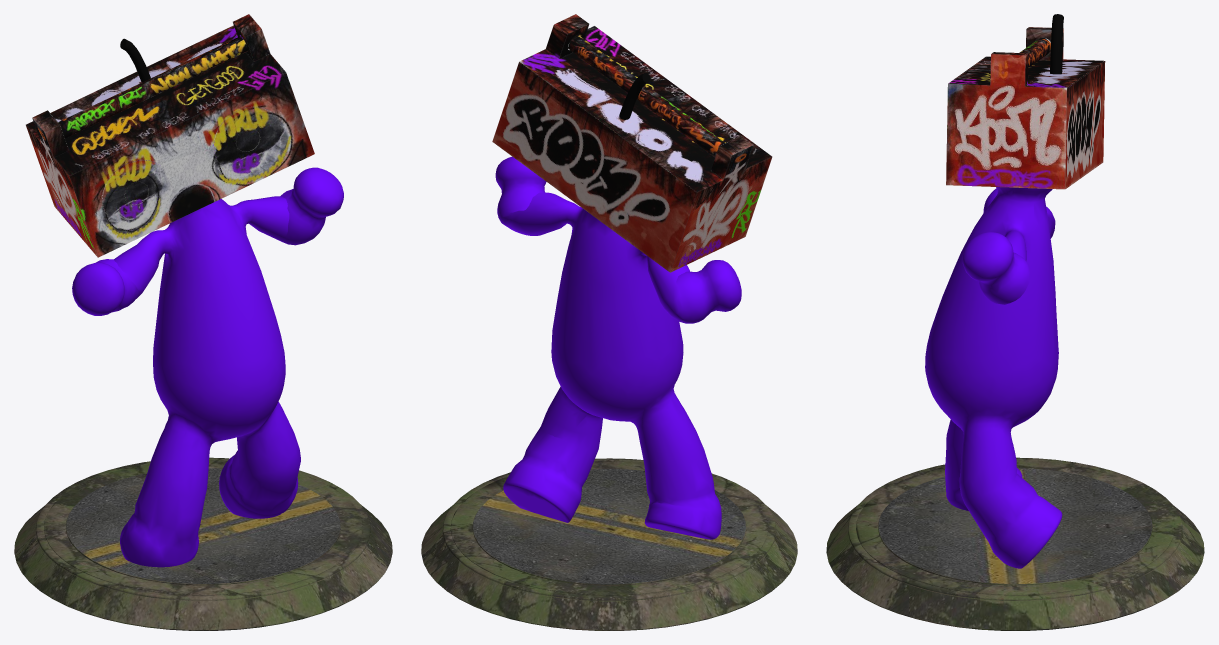
3 views of the same model, side by side, from view 1: azimuth 30°, elevation 25°; view 2: azimuth 150°, elevation 25°; view 3: azimuth 270°, elevation 25° (orthographic).
Bounding box in the file's own units: 1.45 × 2.2 × 1.45.
Materials: 5 (3 with a texture image).
